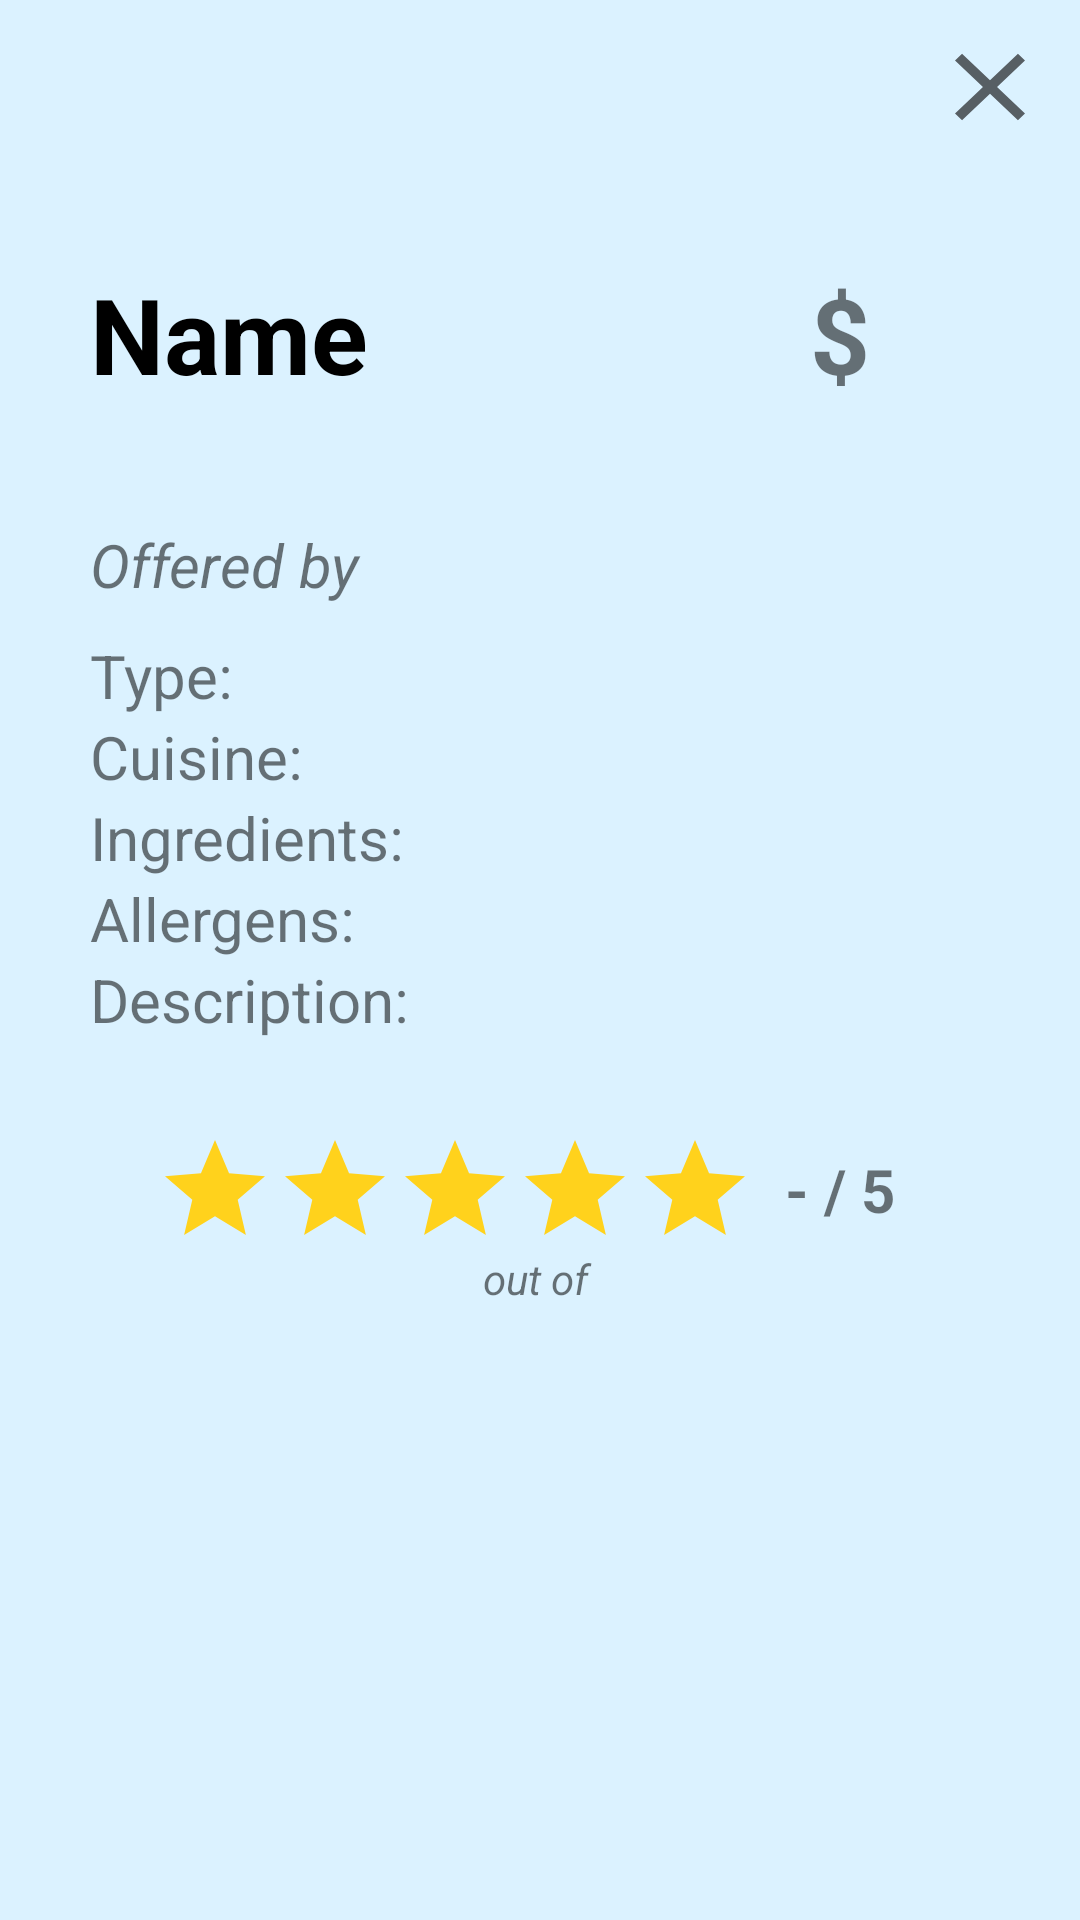

Screen size 1080 × 1920. Icon name, then its box in pixels as bbox=(x1, y1, x2, y2):
close: bbox=(955, 54, 1025, 120)
star: bbox=(165, 1140, 265, 1235), bbox=(285, 1140, 385, 1235), bbox=(405, 1140, 505, 1235), bbox=(525, 1140, 625, 1235), bbox=(645, 1140, 745, 1235)
